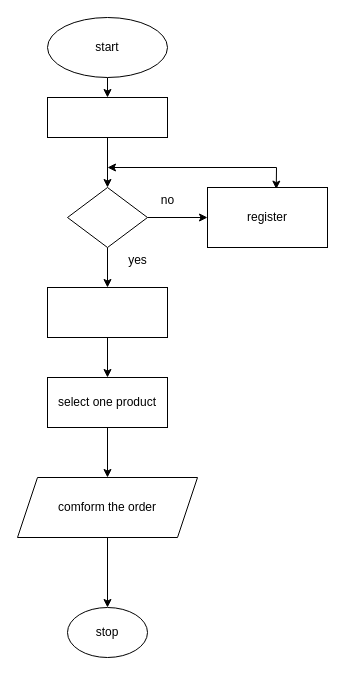
The diagram is 345 pixels wide and 675 high, and some of its shapes have lost their labels. Each missing label, with the centre of its shape:
login: (107,217)
search products: (107,312)
user: (107,117)
